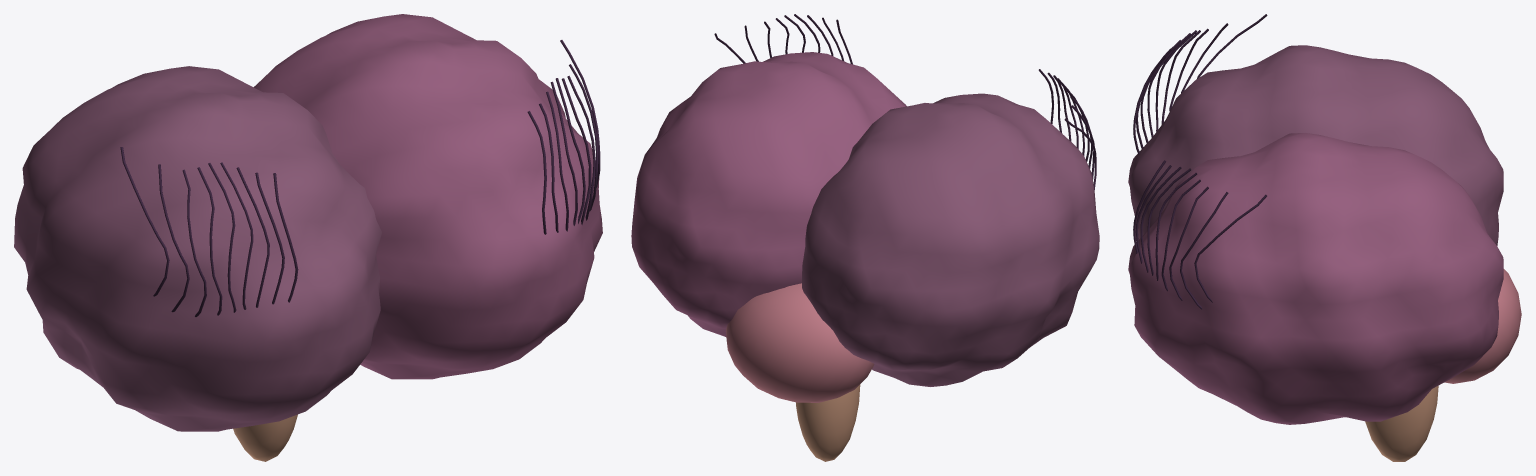
Rendered from brain-atlas.glb.
3 views of the same model, side by side, from view 1: azimuth 30°, elevation 25°; view 2: azimuth 150°, elevation 25°; view 3: azimuth 270°, elevation 25° (orthographic). The views are drawn at different scales.
Visible parts, largest first — view 1: Cerebral hemisphere L, Cerebral hemisphere R, Brainstem; view 2: Cerebral hemisphere L, Cerebral hemisphere R, Cerebellum, Brainstem; view 3: Cerebral hemisphere R, Cerebral hemisphere L, Brainstem, Cerebellum.
Boxes of the visible parts, x1,y1,x2,y2 form: Cerebral hemisphere L: (14, 66, 381, 431); Cerebral hemisphere R: (254, 14, 602, 379); Brainstem: (233, 414, 297, 461); Cerebral hemisphere L: (801, 93, 1099, 386); Cerebral hemisphere R: (631, 52, 906, 336); Cerebellum: (725, 283, 874, 402); Brainstem: (796, 384, 860, 461); Cerebral hemisphere R: (1128, 133, 1503, 424); Cerebral hemisphere L: (1128, 45, 1503, 245); Brainstem: (1365, 385, 1438, 461); Cerebellum: (1444, 269, 1521, 383).
Size of the model in its own units: 4.22 by 3.38 by 3.34.
